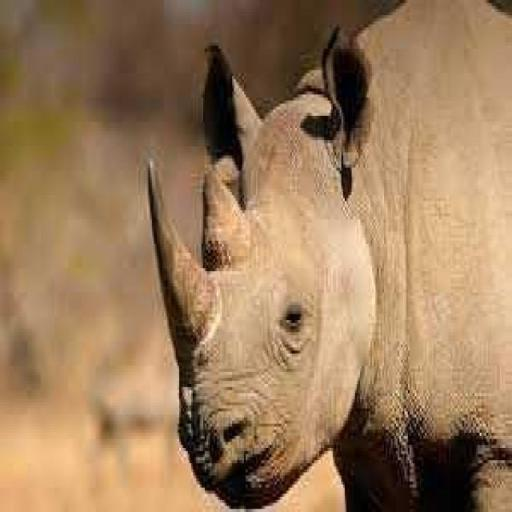Rhino: (142, 0, 510, 509)
